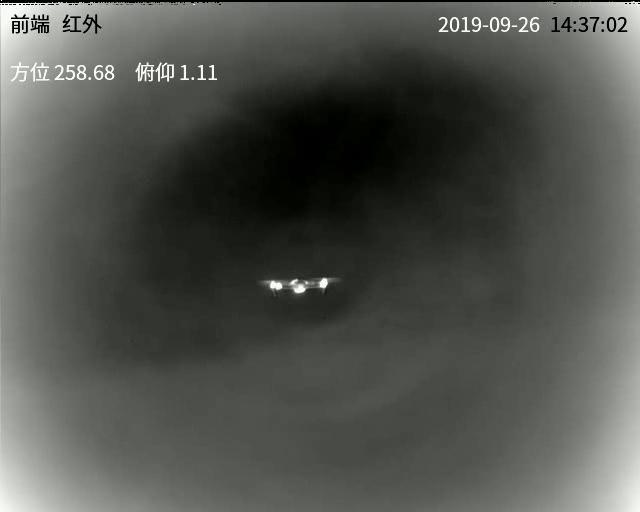DRONE: (268, 275, 330, 298)
